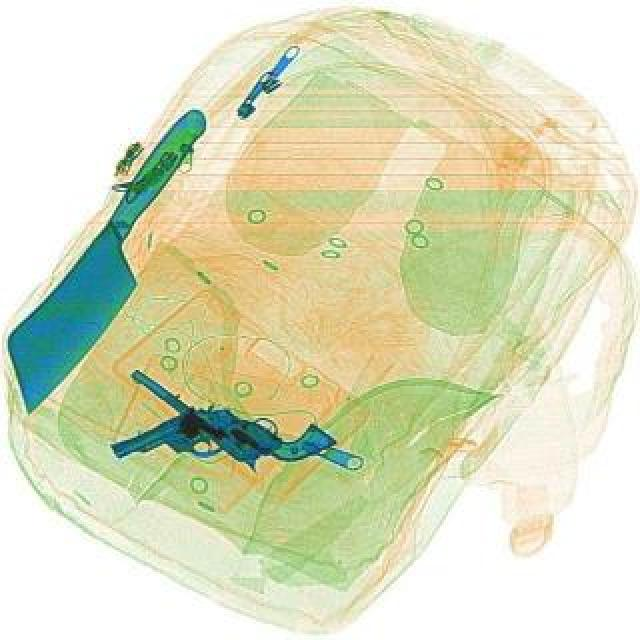gun: (122, 328, 338, 502), (104, 366, 284, 530)
knife: (0, 114, 248, 386)
